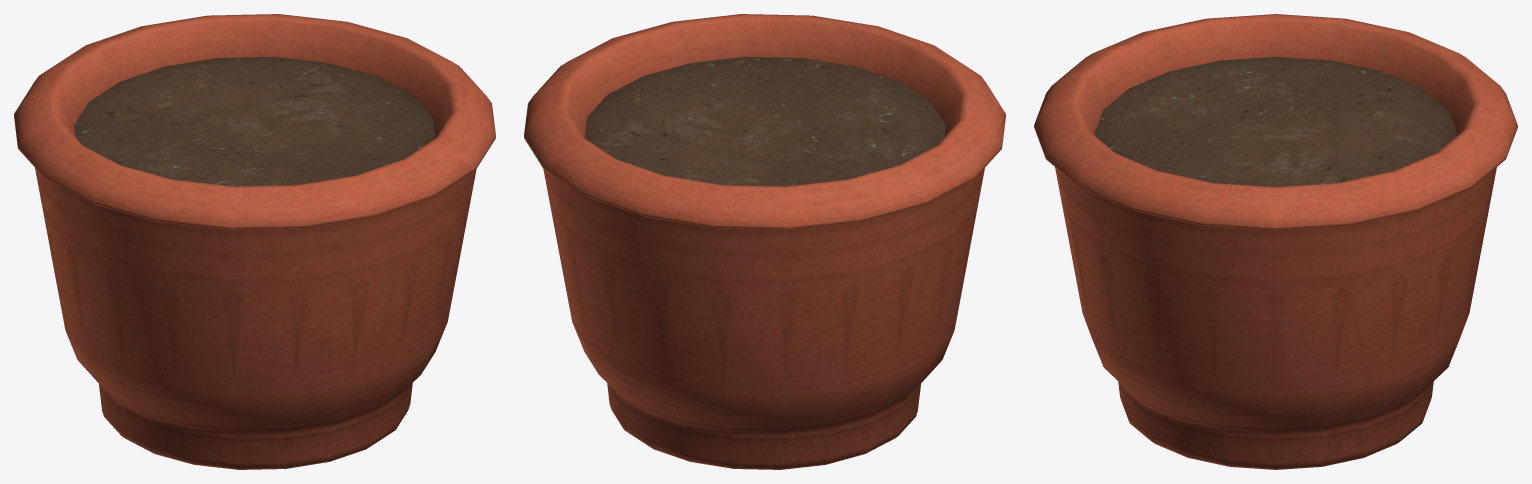
Rendered from GardenPot02_3.FBX.
3 renders of one model, left to right at view 1: azimuth 30°, elevation 25°; view 2: azimuth 150°, elevation 25°; view 3: azimuth 270°, elevation 25°, orthographic.
Visible parts, largest first — view 1: GardenPot02_3; view 2: GardenPot02_3; view 3: GardenPot02_3.
Part boxes in pixels (x1,y1,x2,y2): GardenPot02_3: [14, 14, 495, 469]; GardenPot02_3: [524, 14, 1005, 469]; GardenPot02_3: [1034, 14, 1517, 469].
Size of what is drawn, in the model's own units: 0.6226 by 0.4348 by 0.6226.
